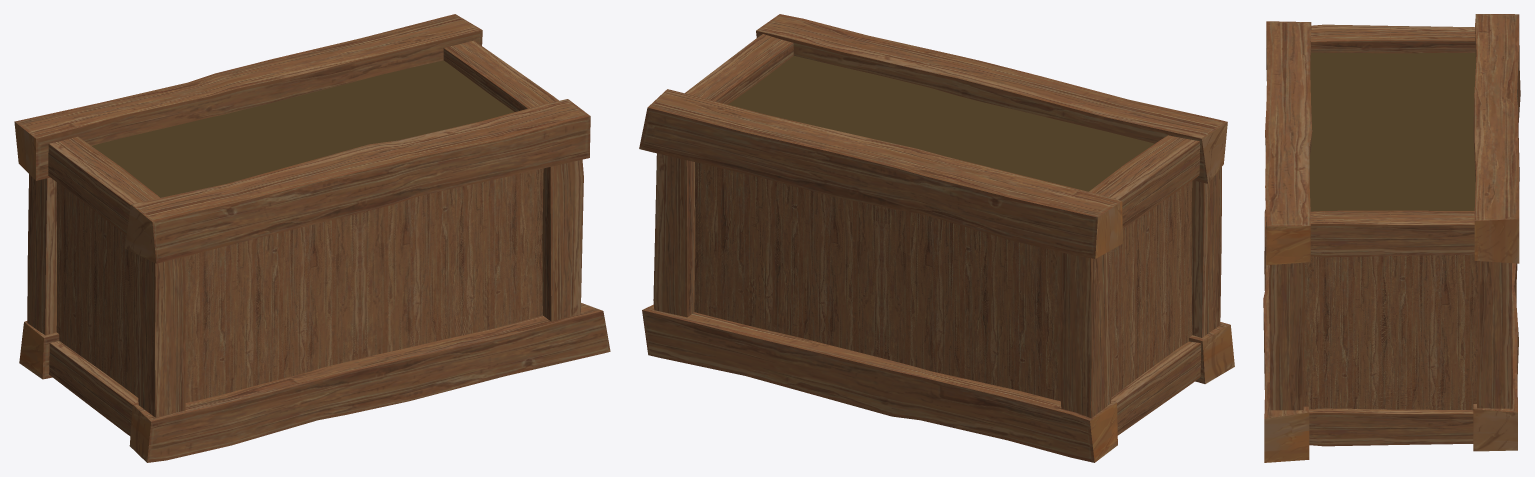
The model's file is SM_Farm_Planter_01.fbx.
3 renders of one model, left to right at view 1: azimuth 30°, elevation 25°; view 2: azimuth 150°, elevation 25°; view 3: azimuth 270°, elevation 25°, orthographic. The views are drawn at different scales.
Visible parts, largest first — view 1: SM_Farm_Planter_01_LOD0; view 2: SM_Farm_Planter_01_LOD0; view 3: SM_Farm_Planter_01_LOD0.
Boxes of the visible parts, x1,y1,x2,y2 form: SM_Farm_Planter_01_LOD0: [14, 14, 610, 462]; SM_Farm_Planter_01_LOD0: [639, 14, 1234, 462]; SM_Farm_Planter_01_LOD0: [1263, 14, 1520, 462].
Size of the model in its own units: 108 by 55.04 by 54.33.
